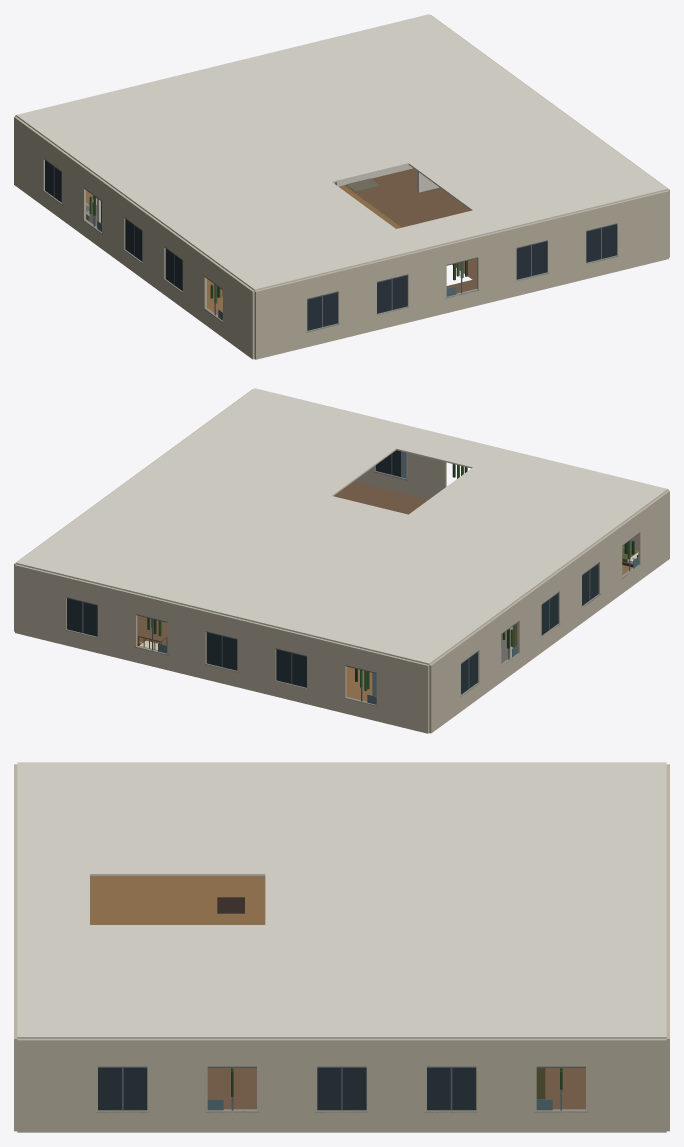
File: tw_interior_flat_24.glb
The picture shows the model from 3 angles, top to bottom: view 1: azimuth 30°, elevation 25°; view 2: azimuth 150°, elevation 25°; view 3: azimuth 270°, elevation 25°; orthographic projection. The views are drawn at different scales.
Parts seen in each view (by area): view 1: tw_interior_flat_24; view 2: tw_interior_flat_24; view 3: tw_interior_flat_24.
Part boxes in pixels (x1,y1,x2,y2): tw_interior_flat_24: (14,14,669,359); tw_interior_flat_24: (14,388,669,733); tw_interior_flat_24: (14,762,669,1132).
Size of what is drawn, in the model's own units: 24.31 by 3.82 by 23.94.
3 materials, 3 textured.
